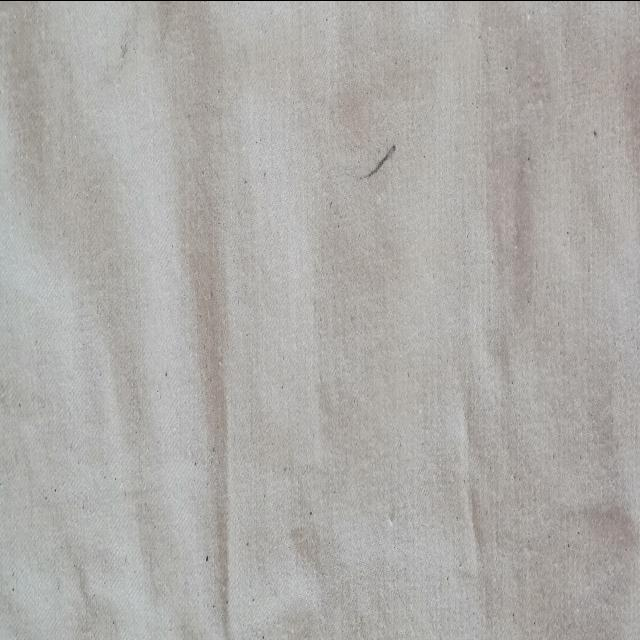taaaches: (350, 116, 404, 205), (138, 0, 197, 43)
